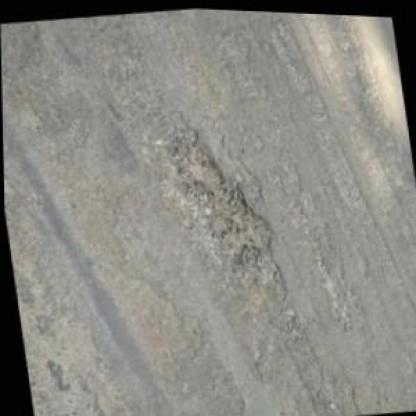pothole: (162, 116, 280, 274), (315, 254, 352, 330)
